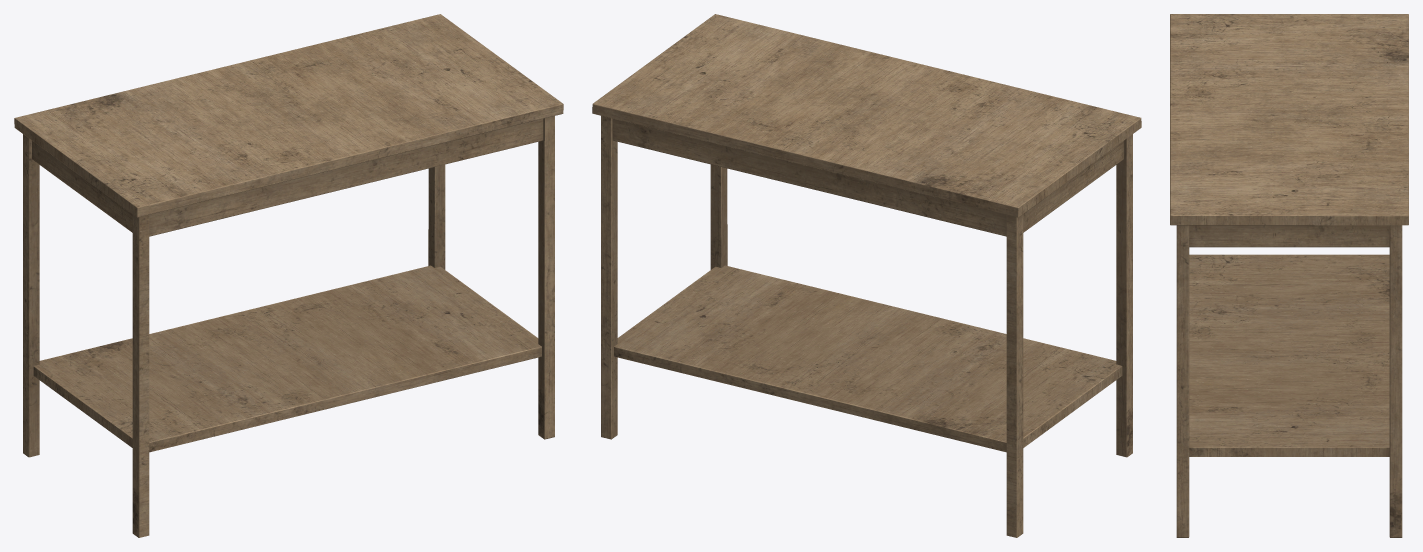
File: SM_Bench.glb
3 renders of one model, left to right at view 1: azimuth 30°, elevation 25°; view 2: azimuth 150°, elevation 25°; view 3: azimuth 270°, elevation 25°, orthographic. The views are drawn at different scales.
Parts seen in each view (by area): view 1: SM_Bench; view 2: SM_Bench; view 3: SM_Bench.
Boxes of the visible parts, x1=… form: SM_Bench: x1=14, y1=14, x2=563, y2=537; SM_Bench: x1=592, y1=14, x2=1141, y2=537; SM_Bench: x1=1170, y1=14, x2=1408, y2=537.
Size of the model in its own units: 1.2 by 0.8999 by 0.6.
Materials: 1 (1 with a texture image).
